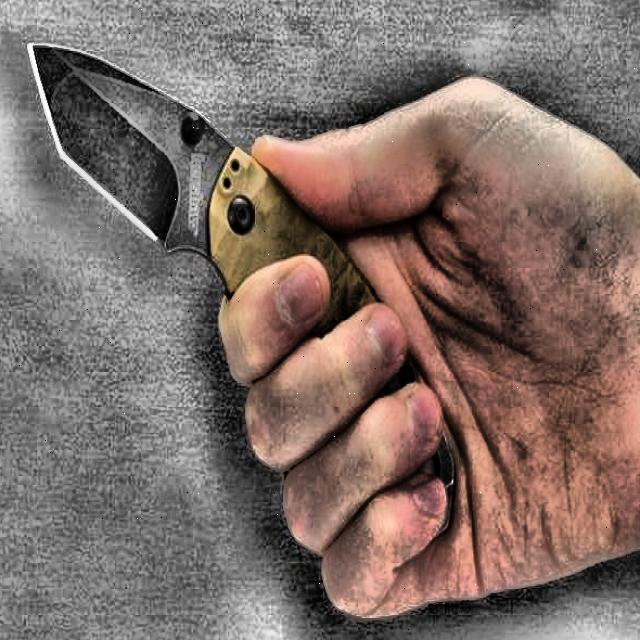knife: (28, 42, 453, 533)
